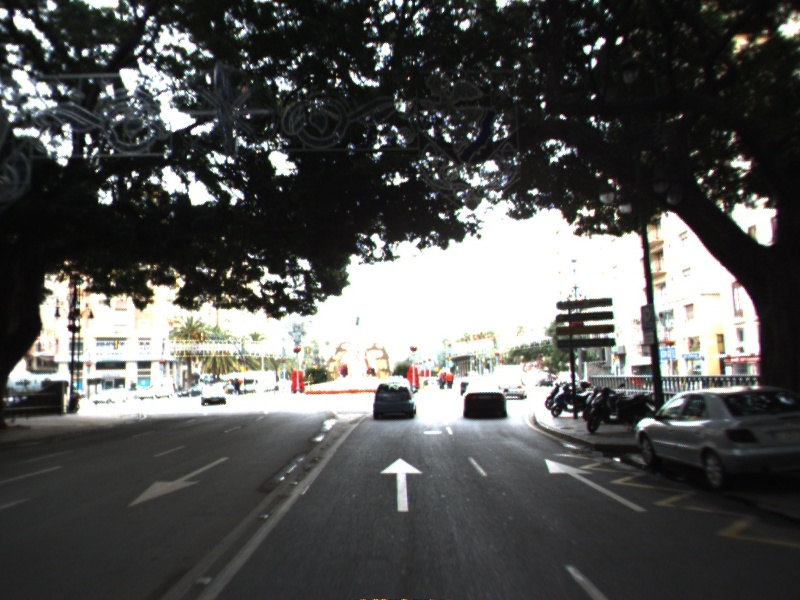STRAIGHT: (543, 457, 650, 514), (378, 456, 425, 514)
